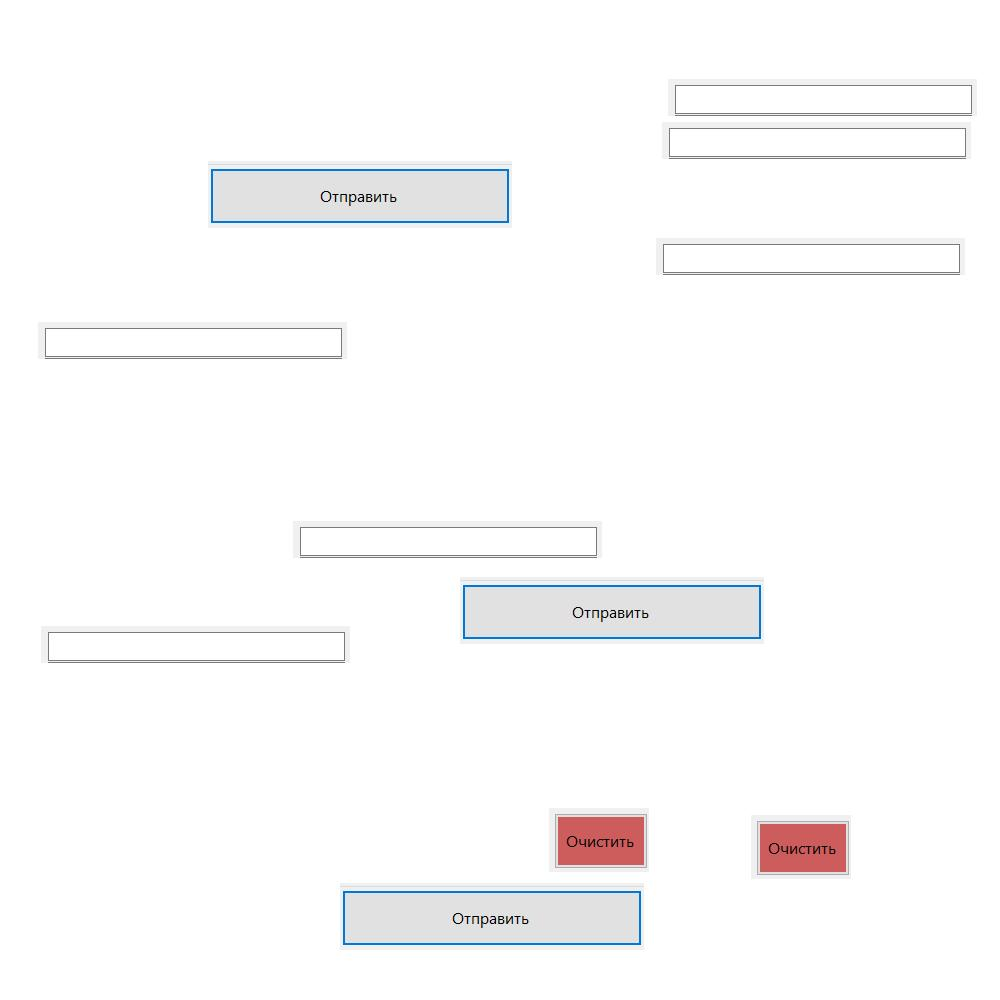Button: (340, 883, 644, 950), (208, 161, 512, 228), (460, 577, 764, 644), (751, 815, 851, 879), (549, 808, 649, 872)
EditText-: (293, 521, 602, 558), (656, 238, 965, 275), (662, 122, 971, 159), (38, 322, 347, 359), (41, 626, 350, 663), (668, 79, 977, 116)
